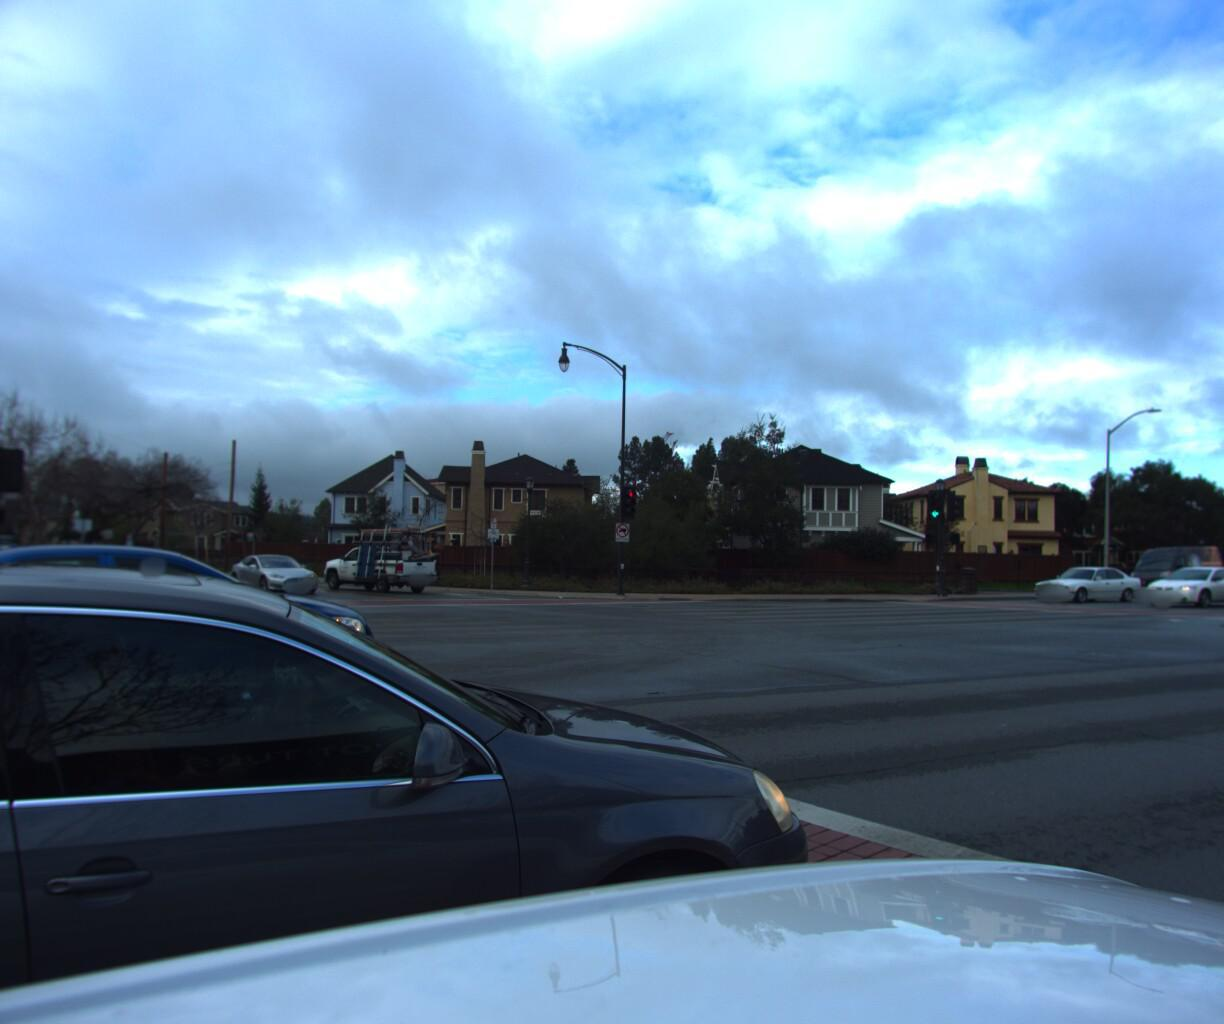car: (0, 570, 871, 1024), (0, 545, 393, 755), (309, 524, 452, 595), (1113, 539, 1224, 595), (1025, 561, 1144, 601), (1130, 559, 1224, 606), (225, 553, 324, 596), (0, 543, 93, 574), (103, 548, 167, 582), (1177, 561, 1224, 599)
